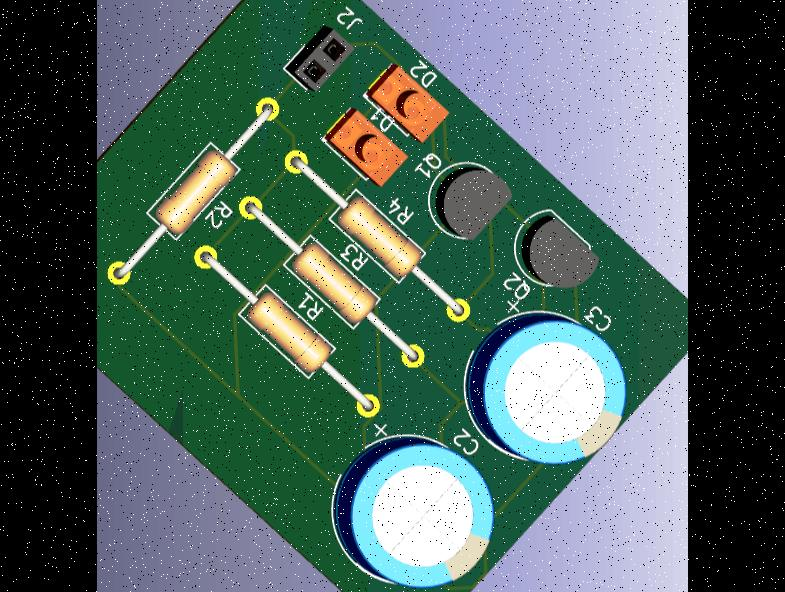capacitor: (330, 436, 496, 592), (466, 312, 632, 468)
diode_smd_orange: (322, 106, 408, 184), (363, 60, 449, 138)
resistor: (238, 290, 324, 384), (290, 238, 376, 332), (336, 193, 422, 286), (150, 144, 236, 237)
transistor: (514, 209, 600, 288), (423, 161, 510, 239)
